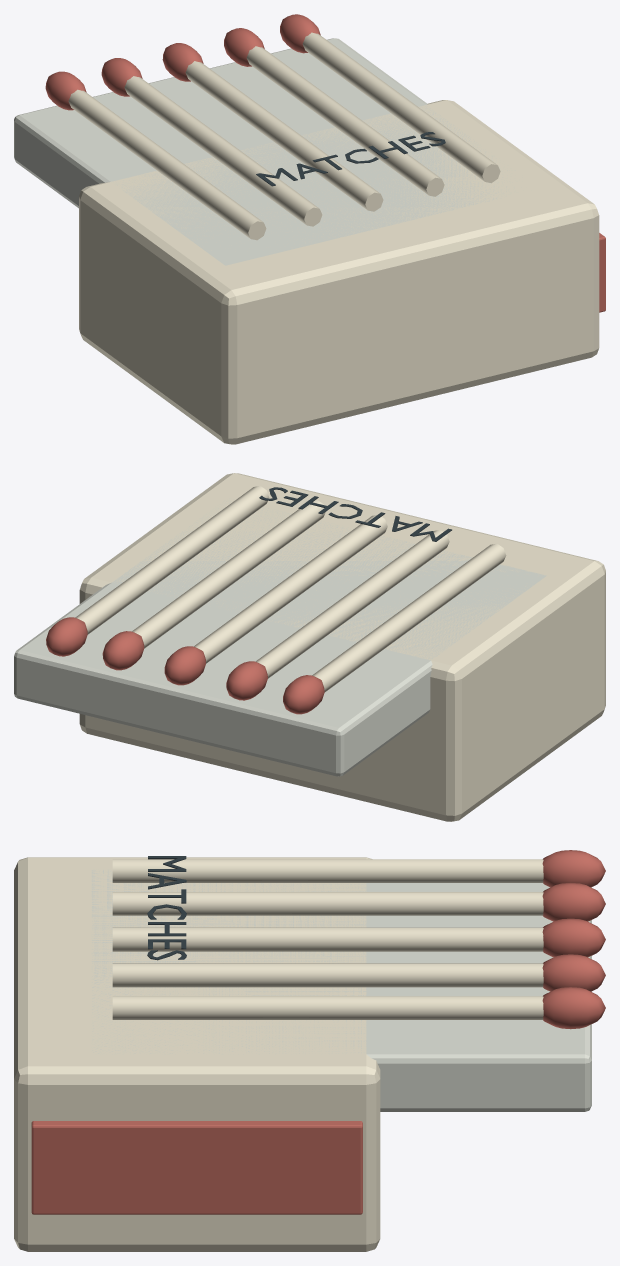
Rendered from loot_matches.glb.
3 views of the same model, one above another, from view 1: azimuth 30°, elevation 25°; view 2: azimuth 150°, elevation 25°; view 3: azimuth 270°, elevation 25° (orthographic). The views are drawn at different scales.
Visible parts, largest first — view 1: loot_matches; view 2: loot_matches; view 3: loot_matches.
Part boxes in pixels (x1,y1,x2,y2): loot_matches: (14, 14, 605, 444); loot_matches: (14, 473, 605, 821); loot_matches: (14, 850, 605, 1251).
Size of the model in its own units: 0.076 by 0.0376 by 0.084.
